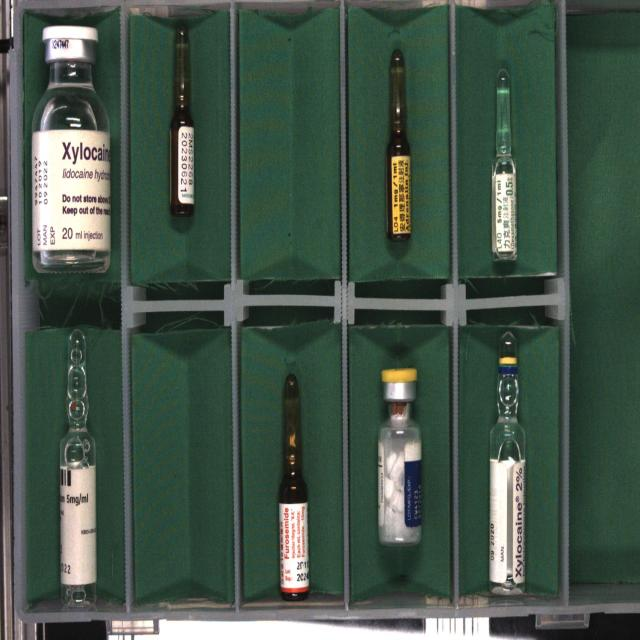Vials: (31, 26, 111, 272), (378, 368, 421, 545)
